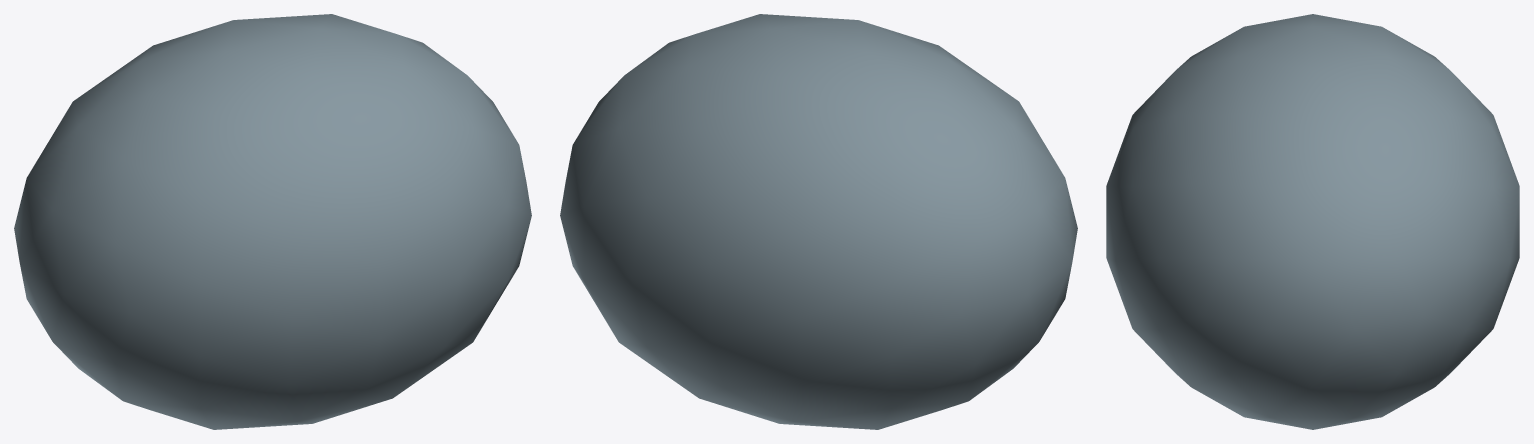
The model's file is rock.glb.
3 views of the same model, side by side, from view 1: azimuth 30°, elevation 25°; view 2: azimuth 150°, elevation 25°; view 3: azimuth 270°, elevation 25° (orthographic). The views are drawn at different scales.
Size of the model in its own units: 3.13 by 2.35 by 2.55.
